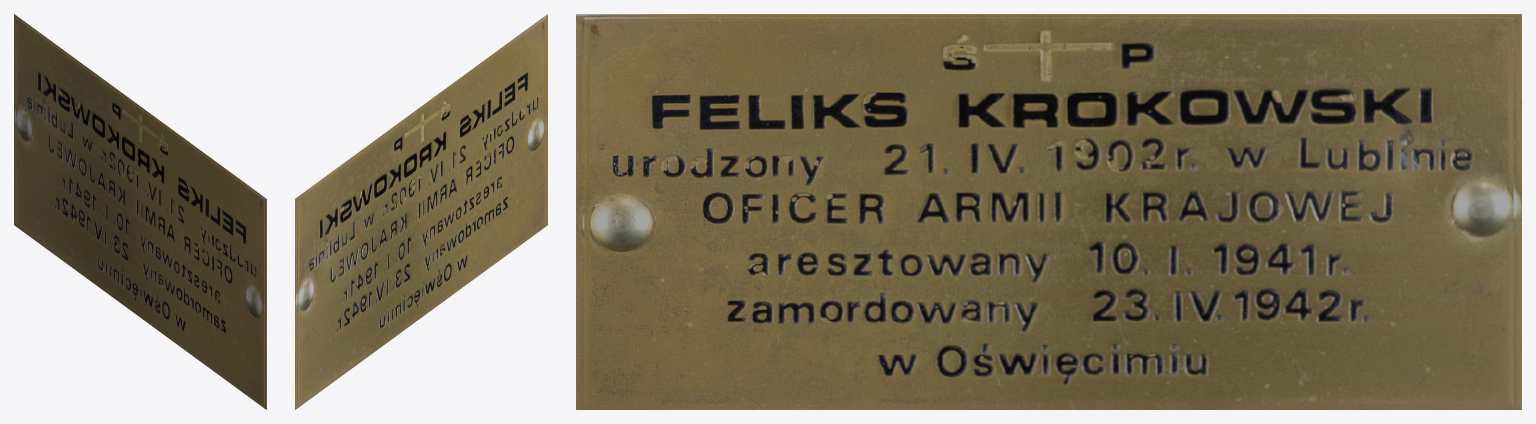
Rendered from 20.  ŚP. FELIKS KROKOWSKI.glb.
3 renders of one model, left to right at view 1: azimuth 30°, elevation 25°; view 2: azimuth 150°, elevation 25°; view 3: azimuth 270°, elevation 25°, orthographic. The views are drawn at different scales.
Visible parts, largest first — view 1: Plane; view 2: Plane; view 3: Plane.
Boxes of the visible parts, left/top/right/bottom form: Plane: left=14, top=14, right=266, bottom=409; Plane: left=295, top=14, right=547, bottom=409; Plane: left=576, top=14, right=1521, bottom=409.
Bounding box in the file's own units: 0.0246 × 6 × 13.
1 material, 1 textured.
